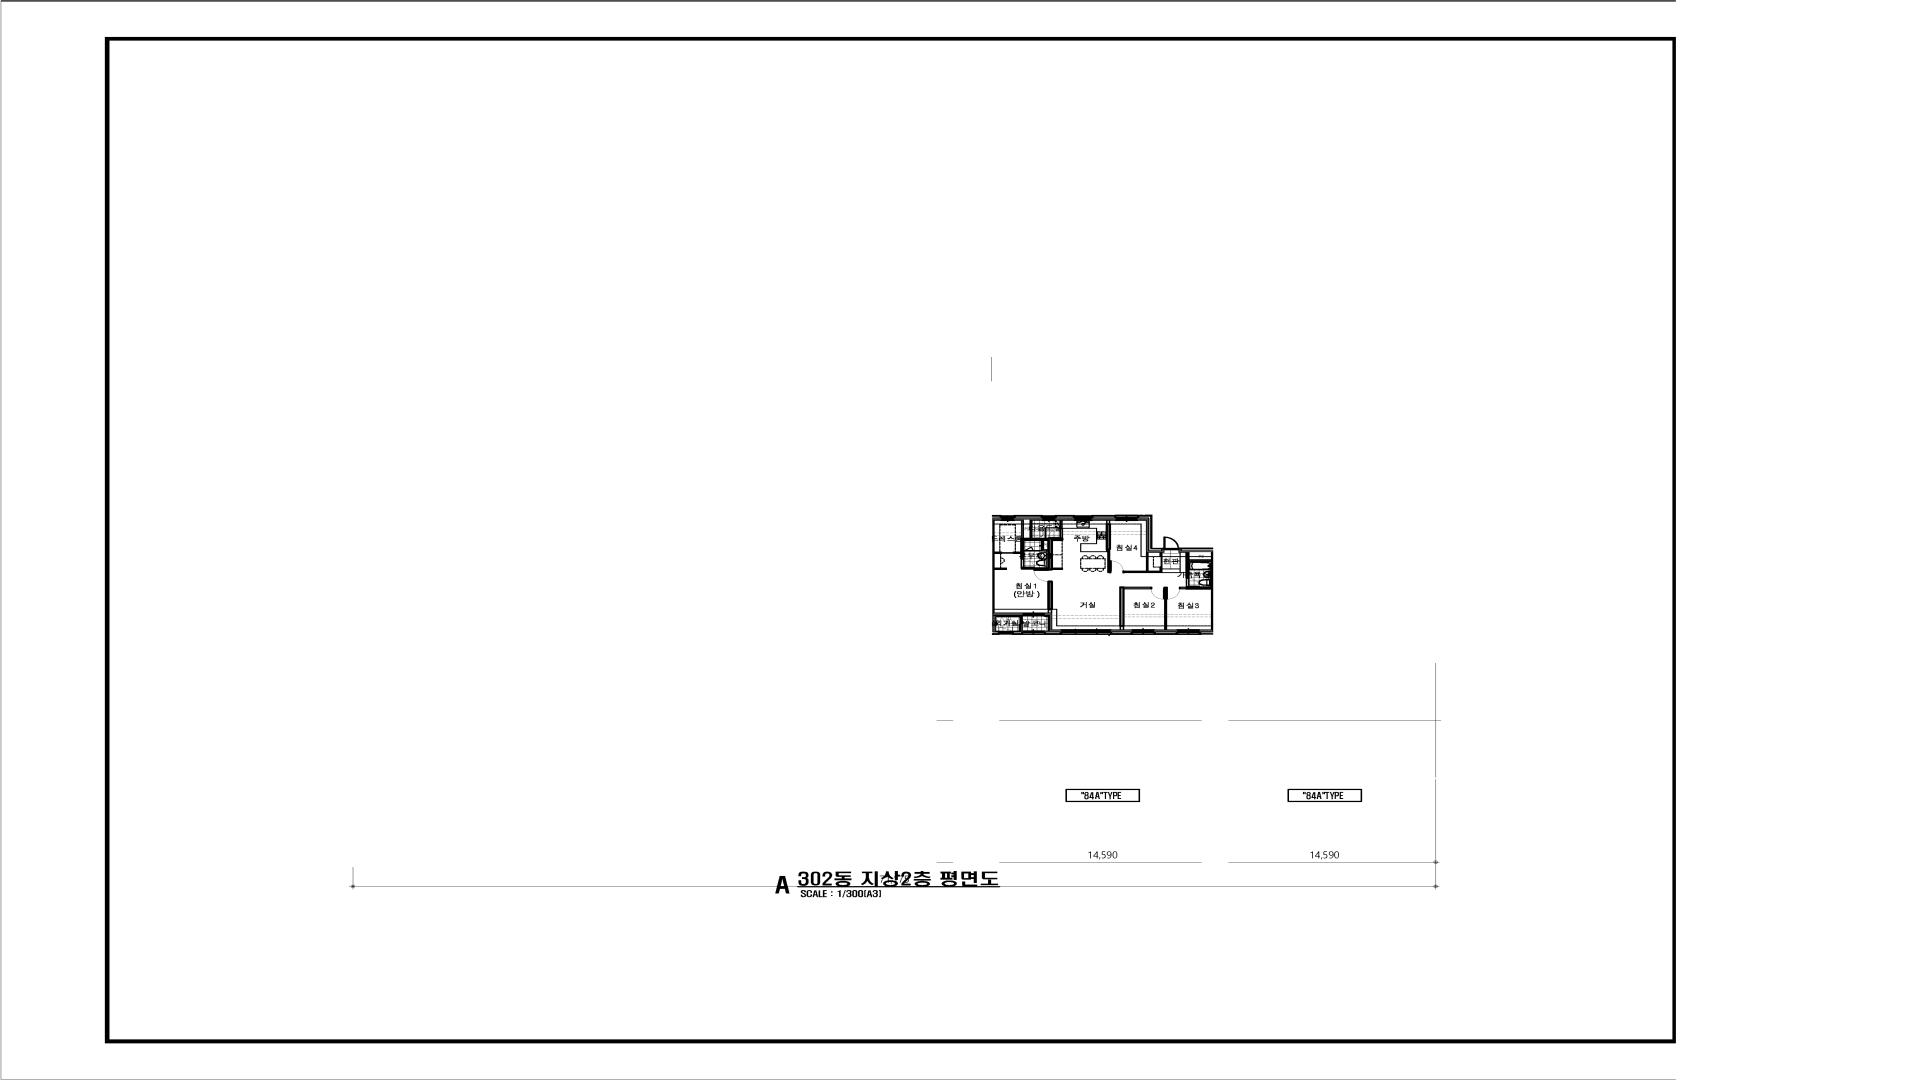background: (3, 0, 1920, 1080)
door: (1163, 537, 1179, 553), (1034, 570, 1054, 582), (1110, 560, 1125, 574), (1151, 587, 1164, 600), (1167, 587, 1180, 600), (1047, 527, 1063, 538), (1185, 578, 1200, 587), (1021, 559, 1035, 567), (1010, 617, 1023, 625), (1025, 547, 1034, 551), (1002, 553, 1013, 554)
wall: (993, 516, 1023, 636), (1179, 547, 1213, 634), (1013, 521, 1064, 570), (1120, 587, 1151, 629), (1138, 514, 1163, 553), (1125, 553, 1163, 574), (1014, 516, 1043, 538), (1185, 553, 1211, 578), (1044, 613, 1062, 636), (1105, 521, 1112, 574), (1047, 582, 1054, 612), (1092, 514, 1117, 521), (1154, 629, 1178, 636), (1110, 629, 1133, 636), (1034, 541, 1047, 551), (1164, 587, 1167, 629), (1055, 516, 1075, 521), (1182, 587, 1211, 589), (994, 567, 1007, 570), (994, 551, 1002, 554), (1060, 521, 1063, 527), (1159, 553, 1163, 556)
window: (1062, 629, 1110, 636), (1178, 629, 1200, 636), (1133, 629, 1154, 636), (1117, 514, 1138, 521), (1023, 612, 1044, 617), (1023, 630, 1044, 636), (1075, 516, 1091, 521), (1002, 516, 1014, 521), (1043, 516, 1055, 521)
